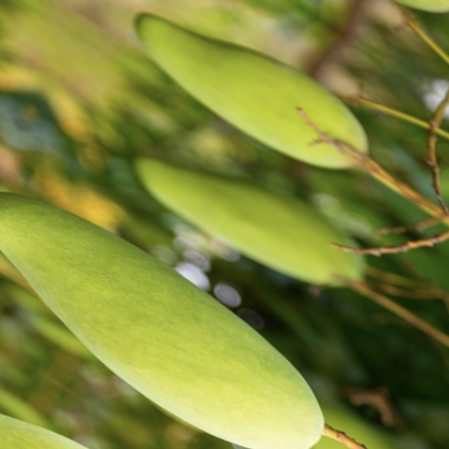mango: (0, 143, 376, 449), (102, 95, 393, 330), (108, 0, 399, 202)
